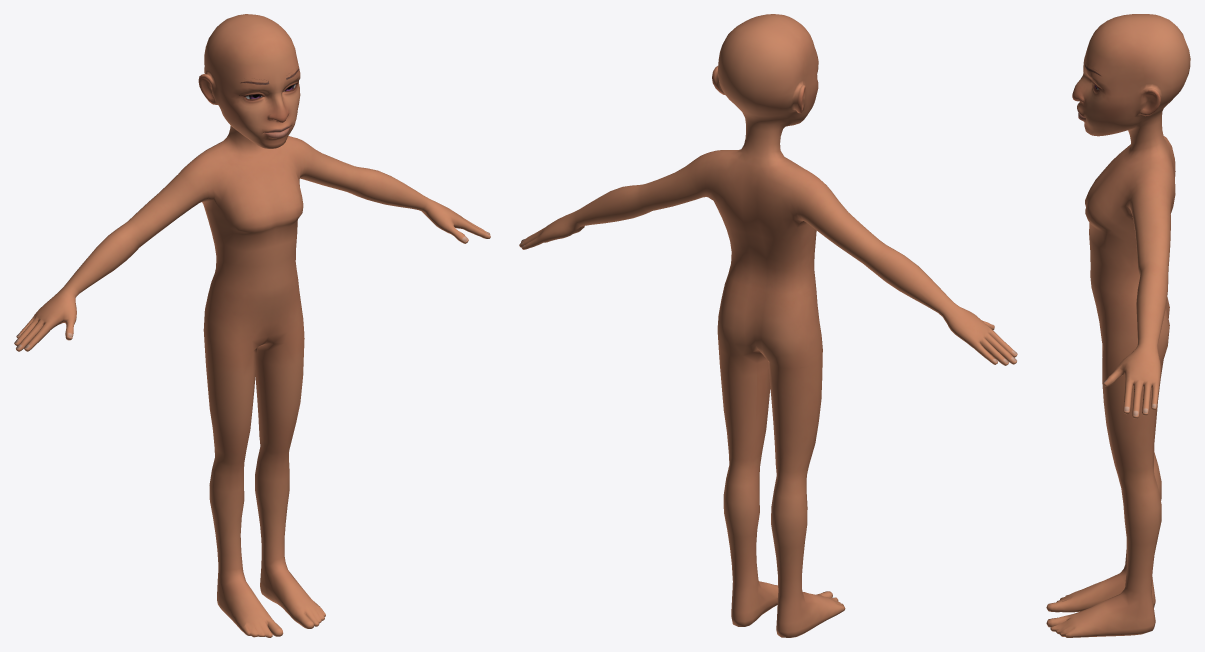
The model's file is frame_0042.glb.
The picture shows the model from 3 angles, left to right: view 1: azimuth 30°, elevation 25°; view 2: azimuth 150°, elevation 25°; view 3: azimuth 270°, elevation 25°; orthographic projection. The views are drawn at different scales.
Parts seen in each view (by area): view 1: frame_0042_head_geo; view 2: frame_0042_head_geo; view 3: frame_0042_head_geo.
Part boxes in pixels (box(x1,y1,x2,y2)): frame_0042_head_geo: box(14, 14, 490, 637); frame_0042_head_geo: box(519, 14, 1017, 637); frame_0042_head_geo: box(1046, 14, 1190, 637).
Bounding box in the file's own units: 1.28 × 1.5 × 0.3253.
Materials: 3 (3 with a texture image).
